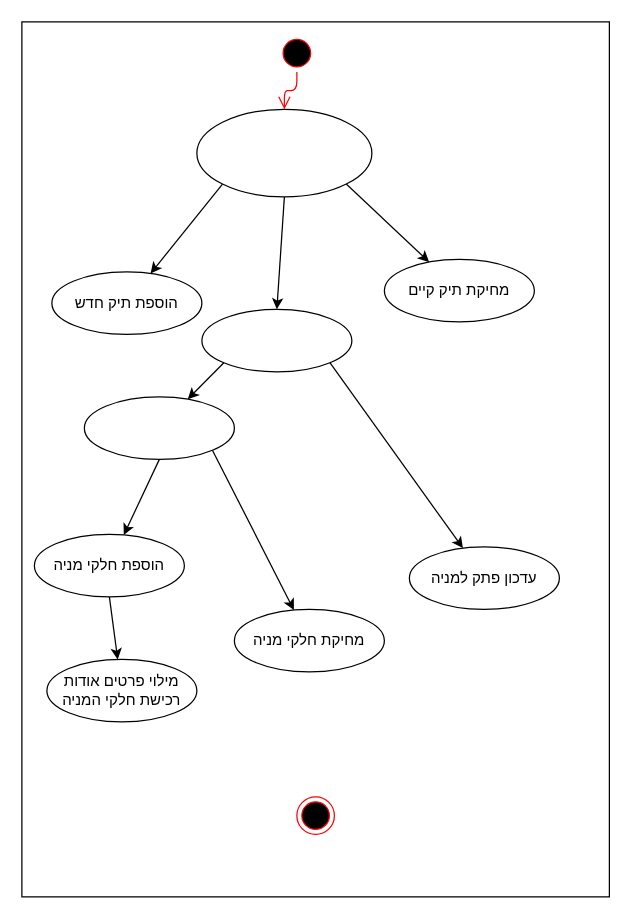
The diagram is 631 pixels wide and 919 high, and some of its shapes have lost their labels. The shapes that lost their labels are listed below. From the top down, each one's box as (x1, y1, x2, y2) in pixels, then its label:
(196, 108, 372, 197): משתמש מעוניין לנהל את תיקי ההשקעות שלו
(201, 308, 352, 372): עדכון תיק קיים
(83, 396, 234, 459): עדכון חלקי מניה
